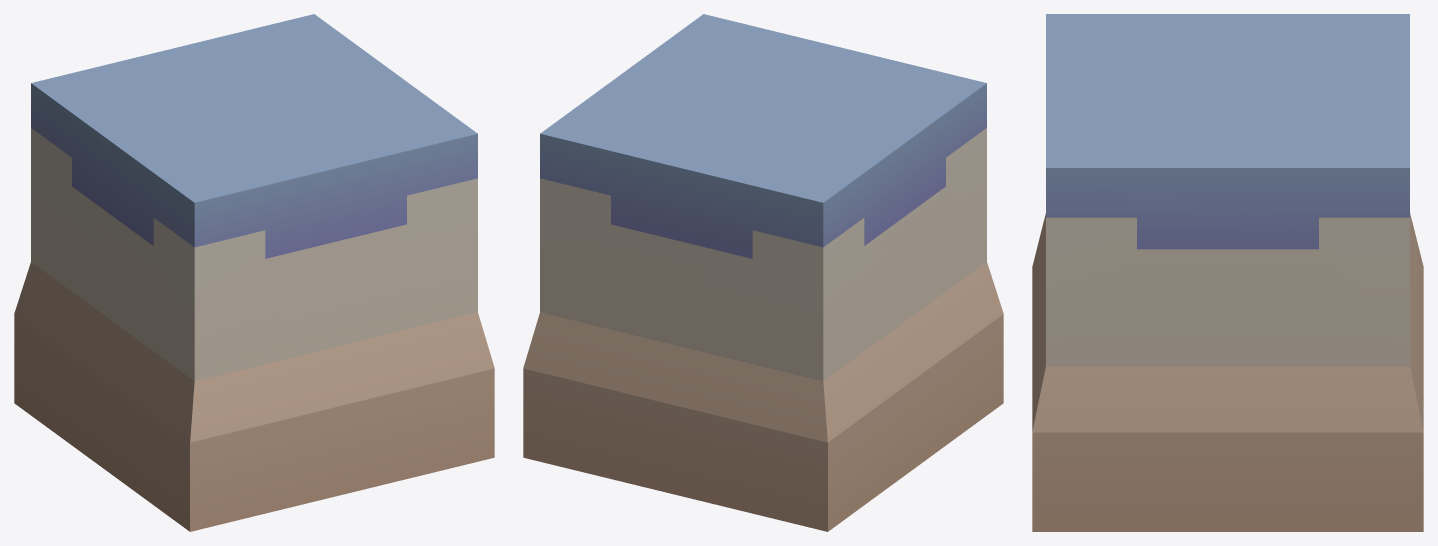
File: tower-square-base-color.glb
3 views of the same model, side by side, from view 1: azimuth 30°, elevation 25°; view 2: azimuth 150°, elevation 25°; view 3: azimuth 270°, elevation 25° (orthographic). The views are drawn at different scales.
Visible parts, largest first — view 1: tower-square-base-color; view 2: tower-square-base-color; view 3: tower-square-base-color.
Boxes of the visible parts, x1,y1,x2,y2 form: tower-square-base-color: (14, 14, 494, 531); tower-square-base-color: (523, 14, 1003, 531); tower-square-base-color: (1032, 14, 1423, 531).
Bounding box in the file's own units: 1 × 1.01 × 1.
